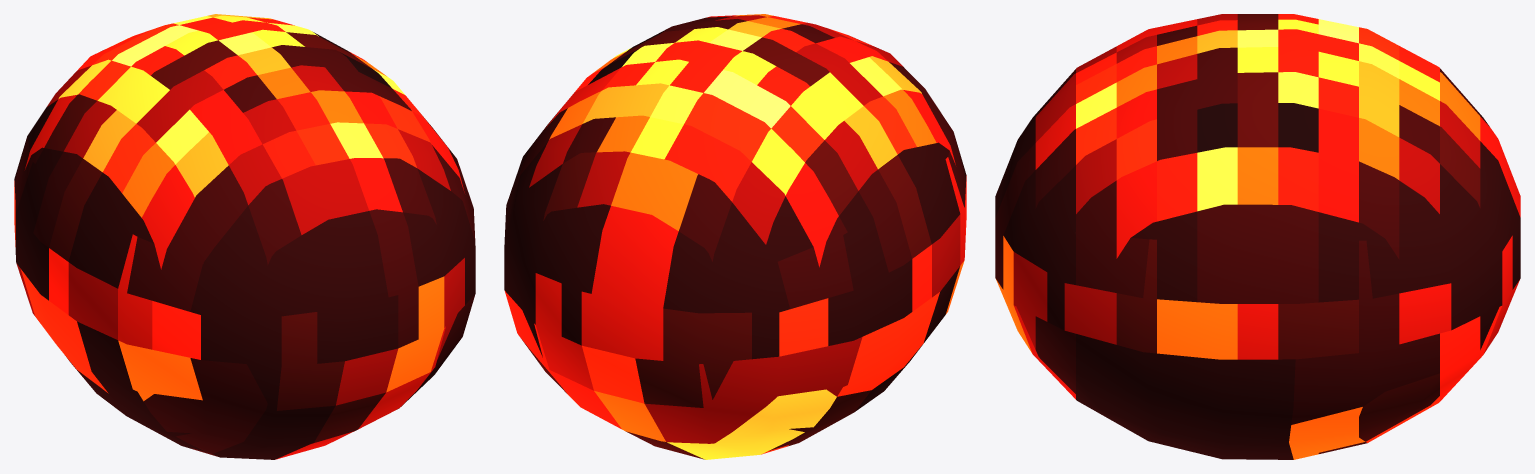
The model's file is newshl-115.glb.
The picture shows the model from 3 angles, left to right: view 1: azimuth 30°, elevation 25°; view 2: azimuth 150°, elevation 25°; view 3: azimuth 270°, elevation 25°; orthographic projection. The views are drawn at different scales.
Visible parts, largest first — view 1: newshl-115; view 2: newshl-115; view 3: newshl-115.
Part boxes in pixels (x1,y1,x2,y2): newshl-115: (14, 14, 475, 459); newshl-115: (504, 14, 966, 459); newshl-115: (995, 14, 1520, 459).
Size of the model in its own units: 0.9183 by 0.9223 by 1.08.
